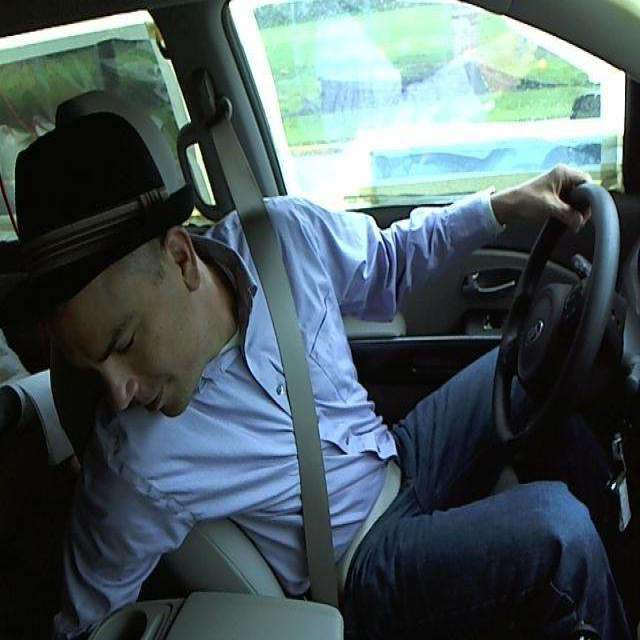seatbelt: (233, 220, 392, 581)
